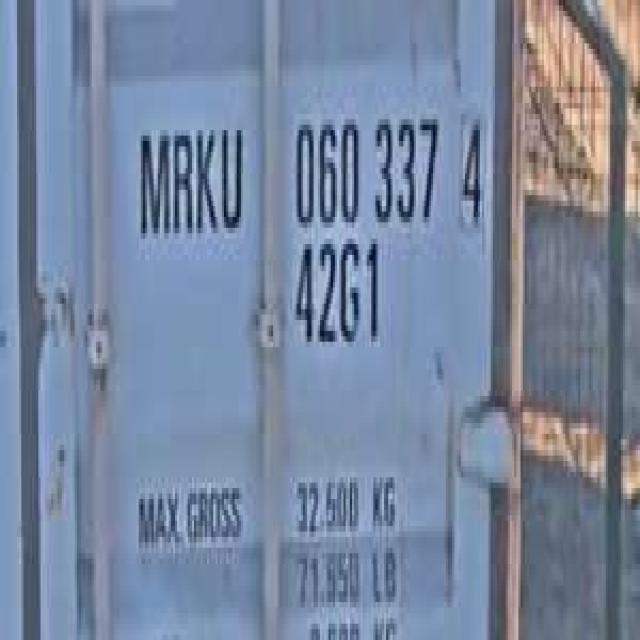dv: (456, 103, 486, 233)
owner: (132, 103, 248, 250)
serial: (288, 98, 442, 238)
size: (288, 228, 384, 363)
